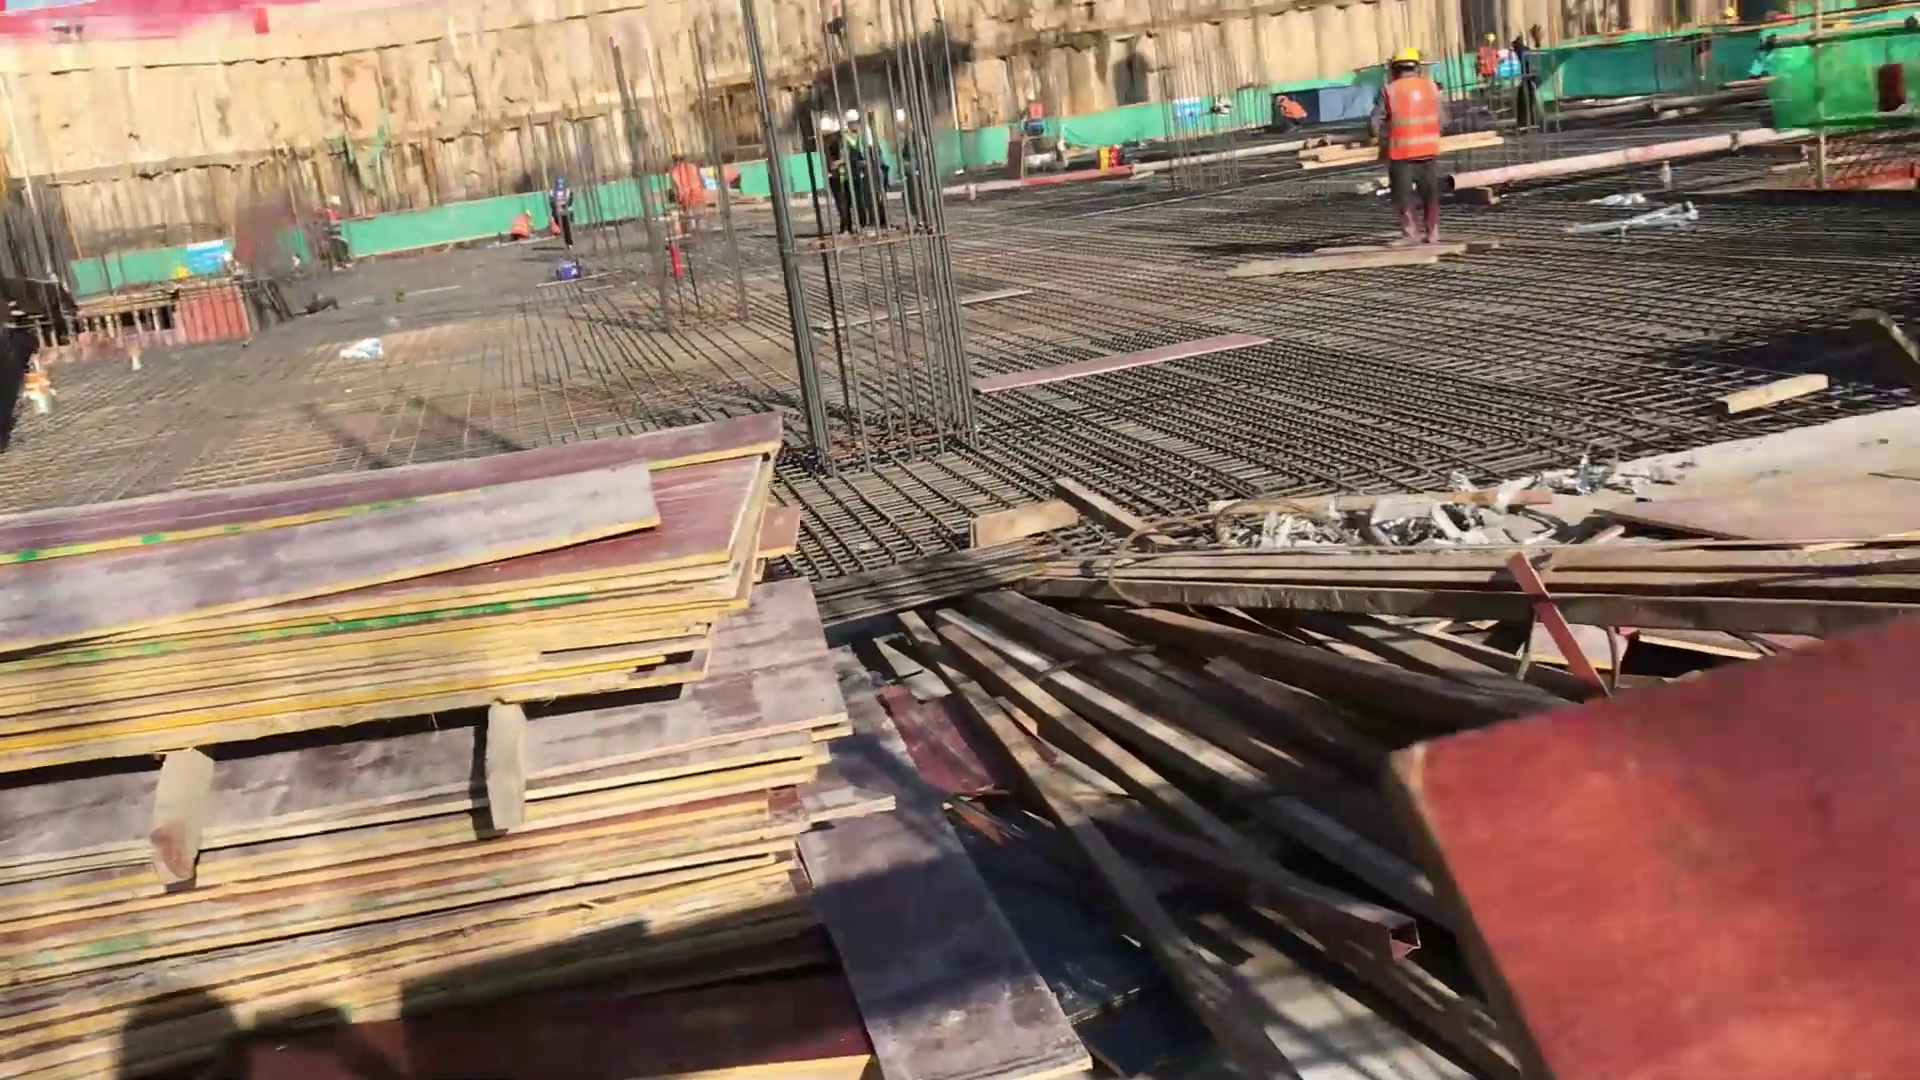helmet: (1378, 33, 1433, 77), (1485, 29, 1500, 41)
person: (1372, 48, 1454, 251), (1269, 88, 1307, 136), (1474, 32, 1503, 90)
vest: (1381, 78, 1456, 178)
